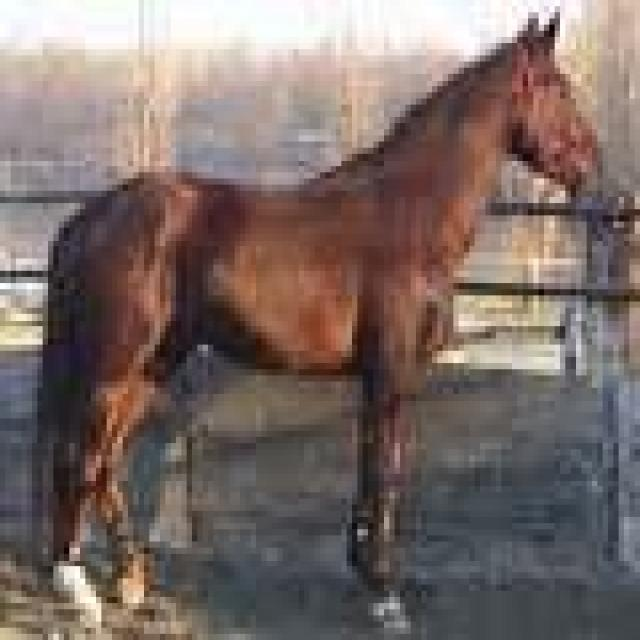horse: (37, 18, 603, 597)
